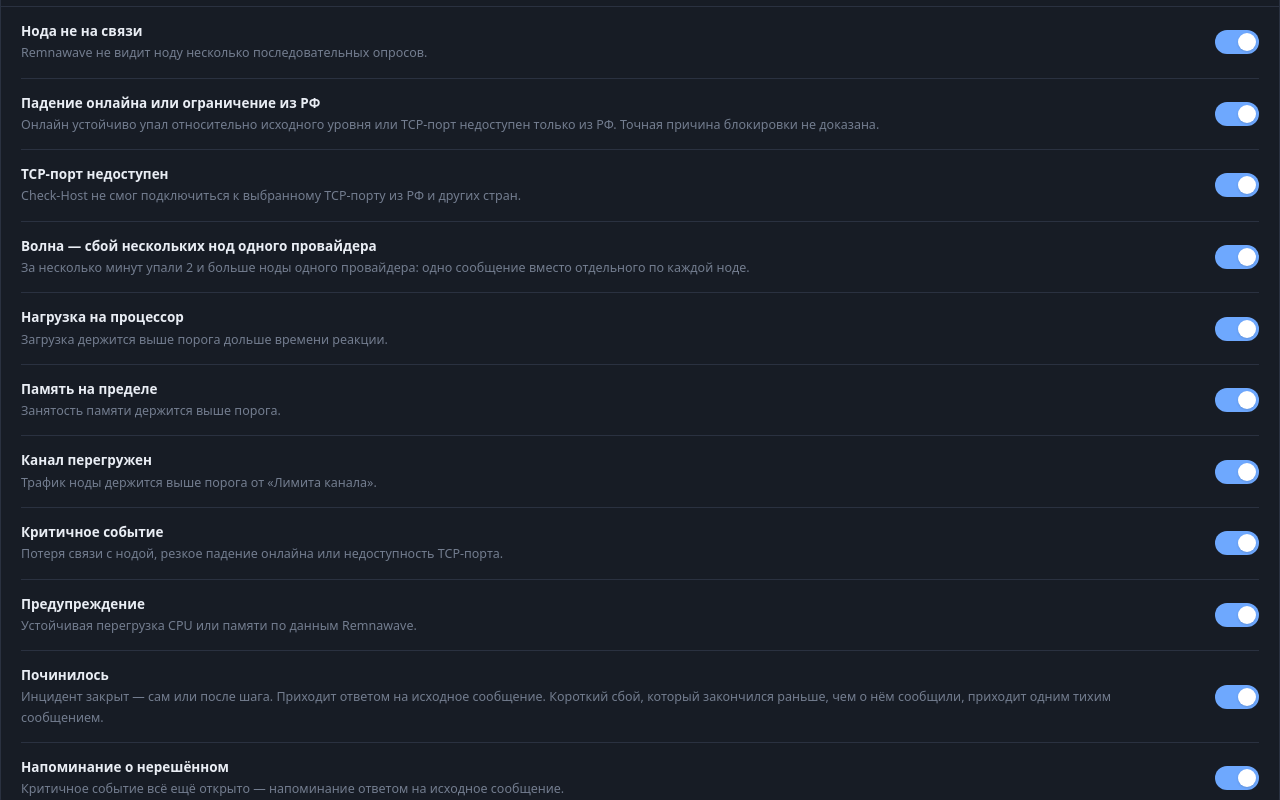
Scenario: Условия событий Remnawave › виды уведомлений сохраняются общей полосой «Сохранить» раздела, своей кнопки у карточки нет
(page scrolled)
Click the switch named "Память на пределе" in the row of "Занятость памяти держится выше порога.": (1237, 400) [1215,388,1259,412]
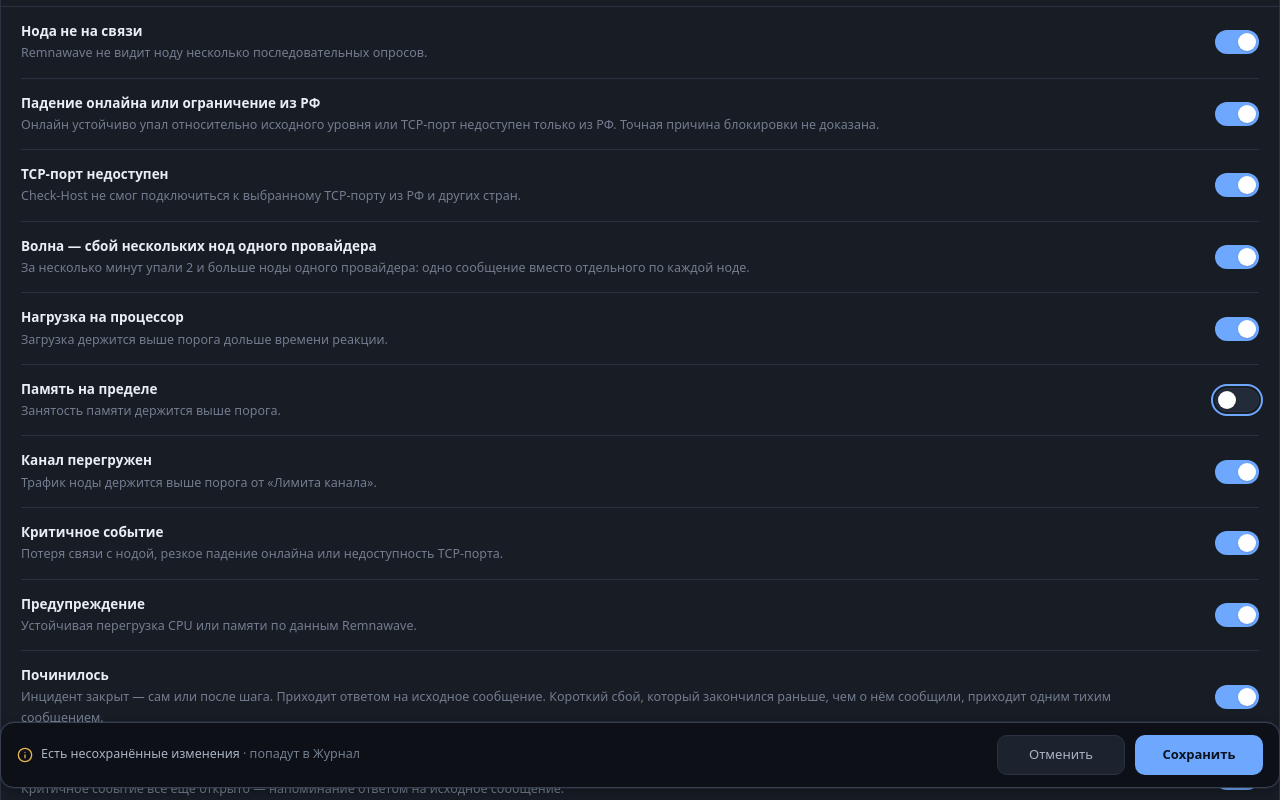
Click the button "Сохранить": (1199, 755) [1135,735,1263,775]
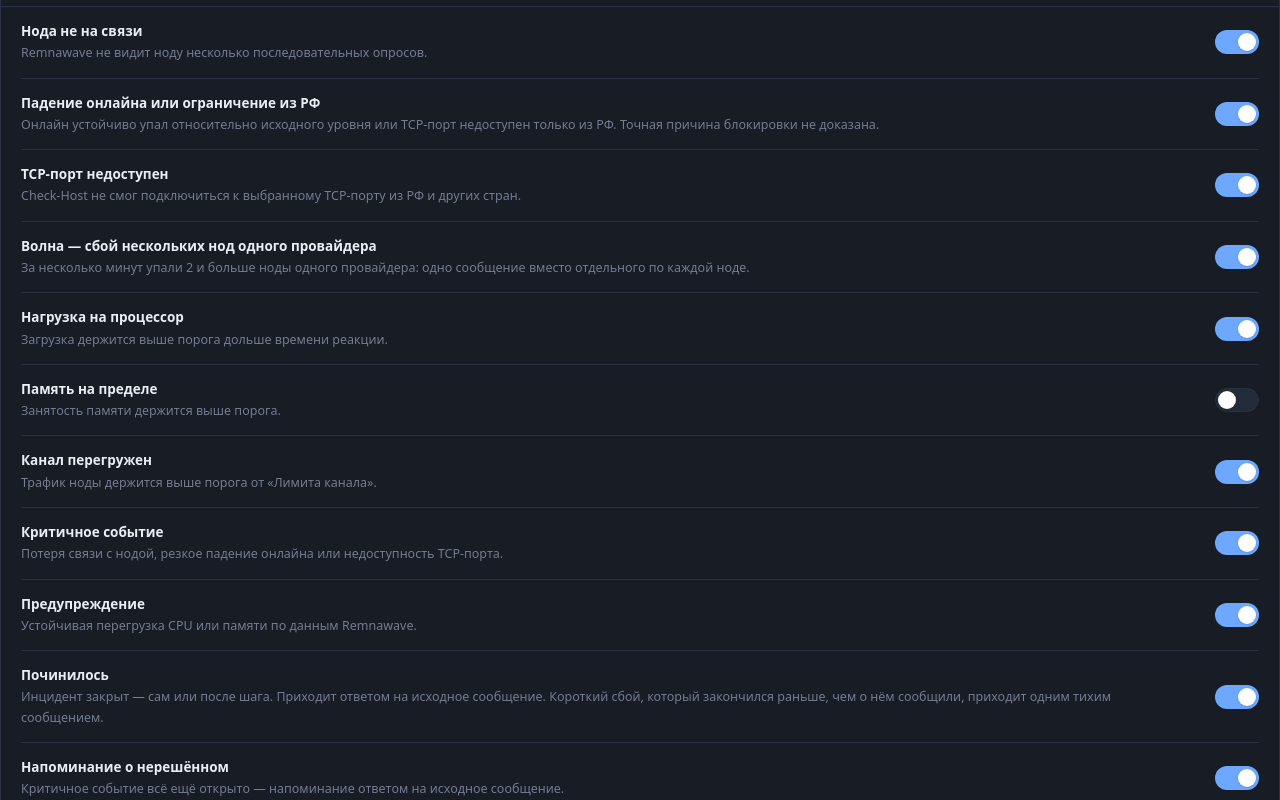
Now the button "Сохранить" is gone
